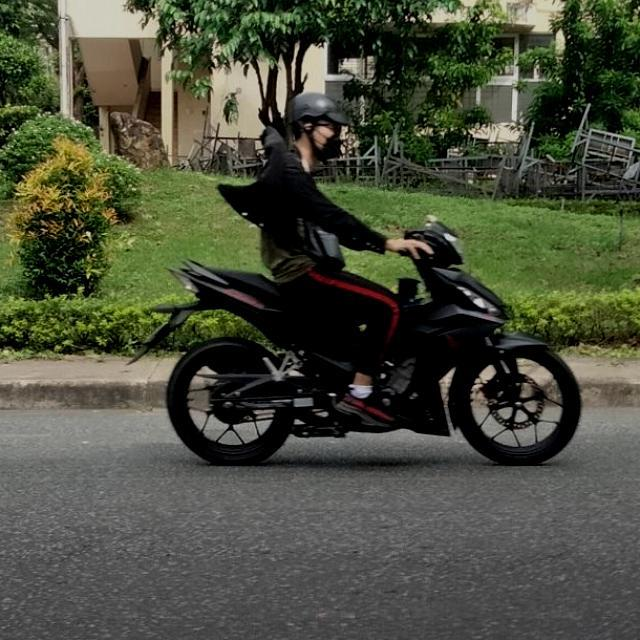Helmet: (281, 90, 355, 164)
